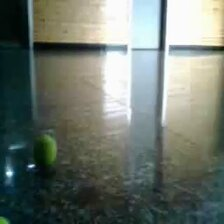tennis: (33, 136, 57, 167)
